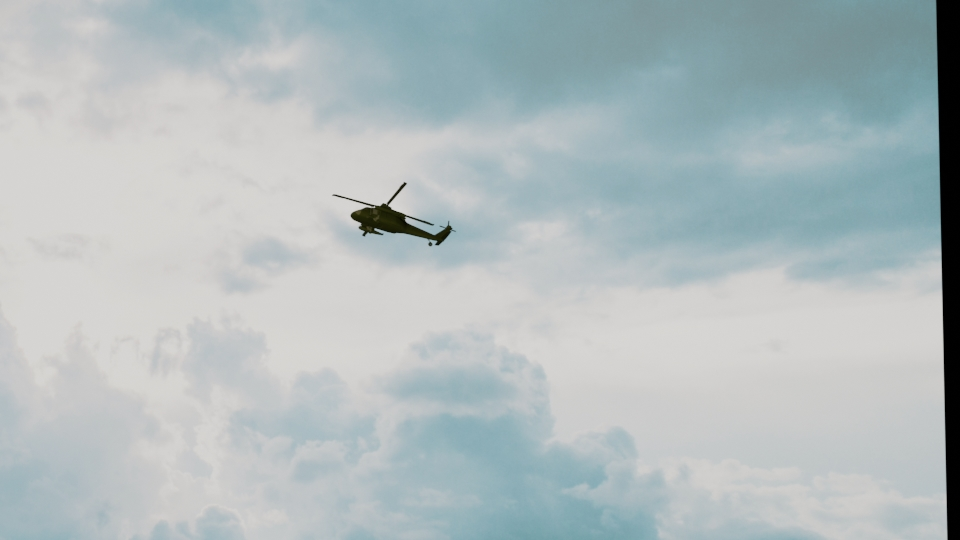heli: (349, 180, 456, 245)
